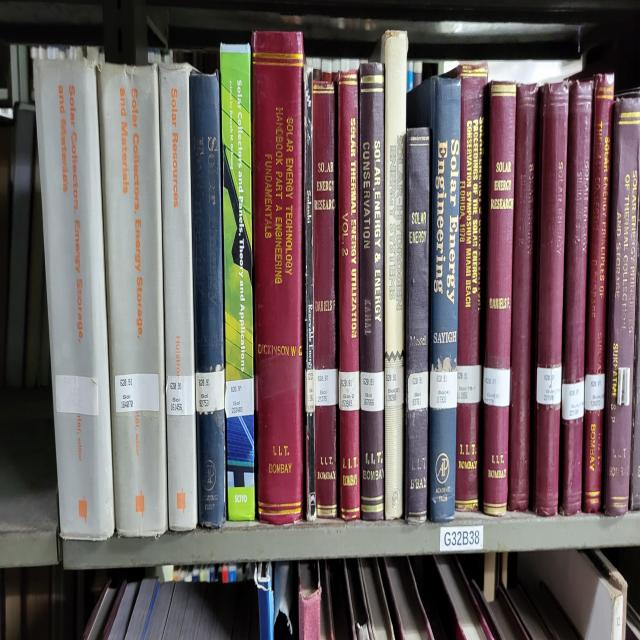Book: (34, 60, 115, 538), (99, 65, 166, 536), (251, 32, 304, 522), (406, 76, 461, 522), (159, 65, 198, 530), (220, 43, 255, 519), (451, 62, 488, 511), (190, 73, 225, 528), (604, 92, 640, 517), (534, 84, 569, 517), (482, 81, 516, 517), (582, 73, 615, 511), (561, 78, 594, 514), (380, 30, 408, 519), (509, 84, 539, 511), (359, 62, 385, 519), (312, 81, 338, 519), (338, 70, 360, 519), (405, 127, 430, 519), (304, 62, 316, 522)
Label: (259, 346, 301, 400), (55, 376, 99, 417), (115, 373, 159, 414), (195, 368, 225, 414), (166, 376, 195, 417), (225, 379, 254, 417), (430, 371, 458, 409), (482, 368, 510, 406), (536, 365, 561, 406), (360, 371, 384, 411), (561, 379, 585, 419), (315, 368, 338, 406), (458, 365, 481, 403), (339, 371, 360, 411), (408, 371, 429, 411), (584, 373, 605, 411), (385, 365, 404, 406), (305, 368, 315, 414), (618, 368, 630, 406)
